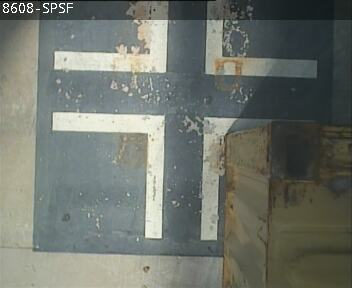groundmarker_1: (50, 108, 309, 243), (54, 1, 316, 79)
